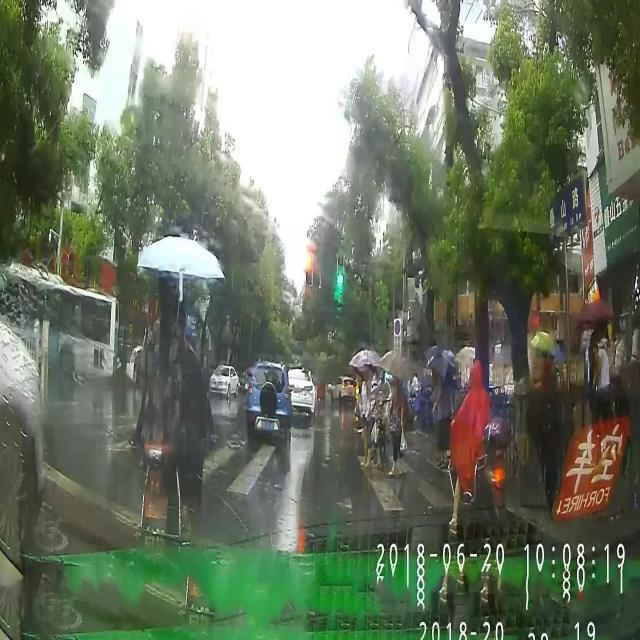car: (1, 314, 46, 554), (246, 358, 292, 451), (284, 367, 316, 422), (208, 364, 238, 400), (330, 374, 358, 410)
